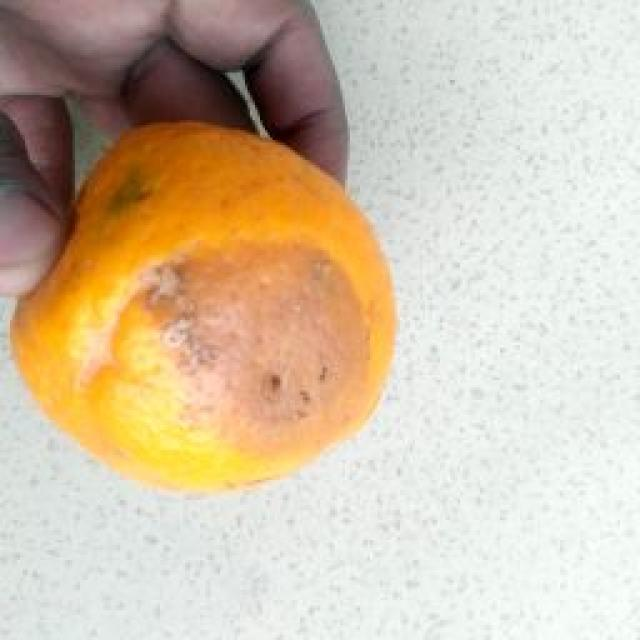Bad_Orange: (11, 122, 394, 491)
